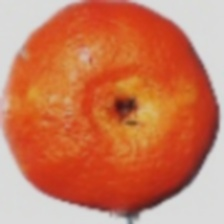tangerine: (26, 16, 186, 193)
